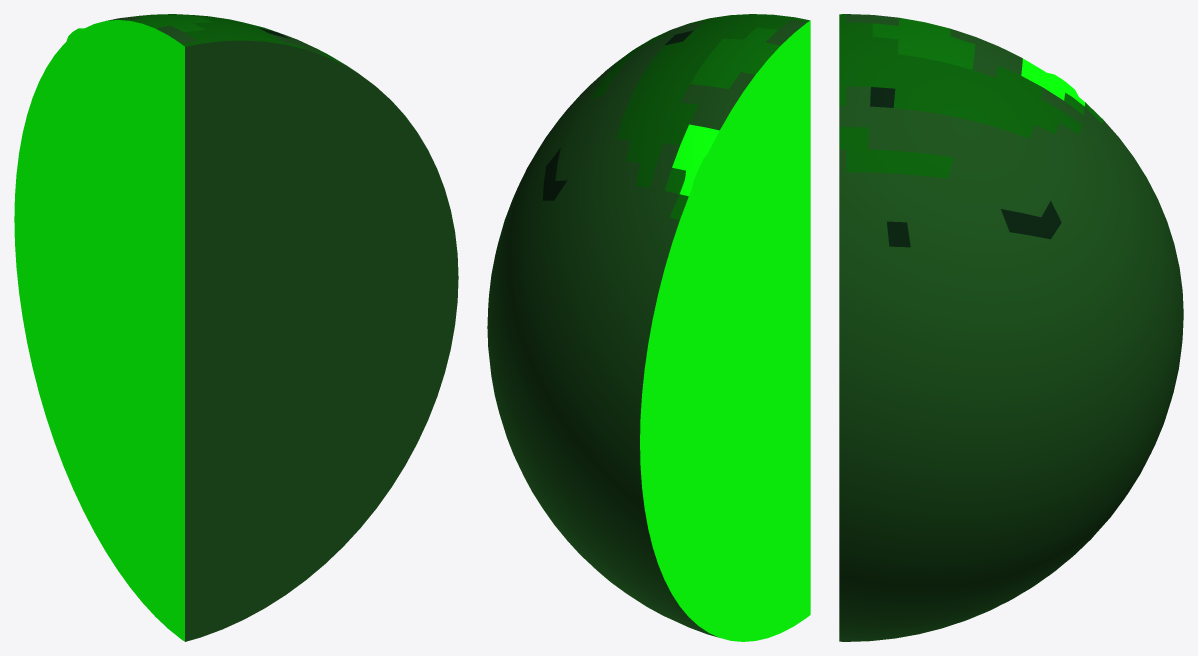
The model's file is newshu-93-f2.glb.
The picture shows the model from 3 angles, left to right: view 1: azimuth 30°, elevation 25°; view 2: azimuth 150°, elevation 25°; view 3: azimuth 270°, elevation 25°; orthographic projection.
Parts seen in each view (by area): view 1: newshu-93-f2; view 2: newshu-93-f2; view 3: newshu-93-f2.
Part boxes in pixels (x1,y1,x2,y2): newshu-93-f2: (14, 14, 458, 641); newshu-93-f2: (487, 14, 810, 641); newshu-93-f2: (839, 14, 1183, 641).
Size of the model in its own units: 1.84 by 3.83 by 1.99.
